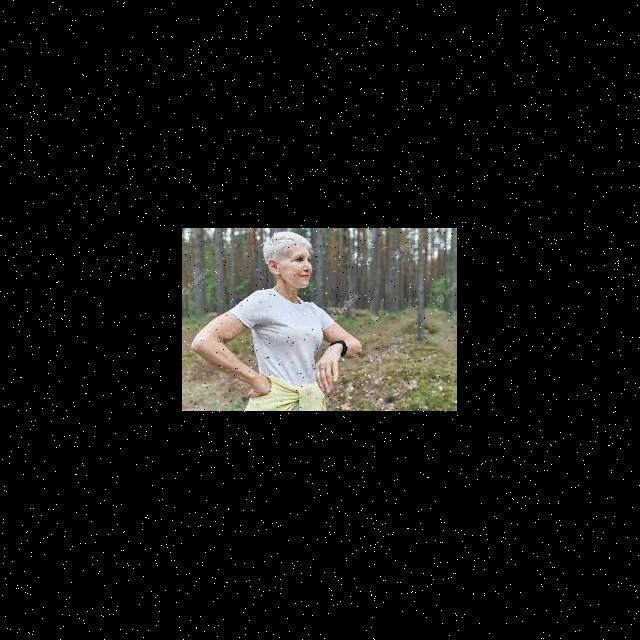watch: (322, 330, 356, 365)
